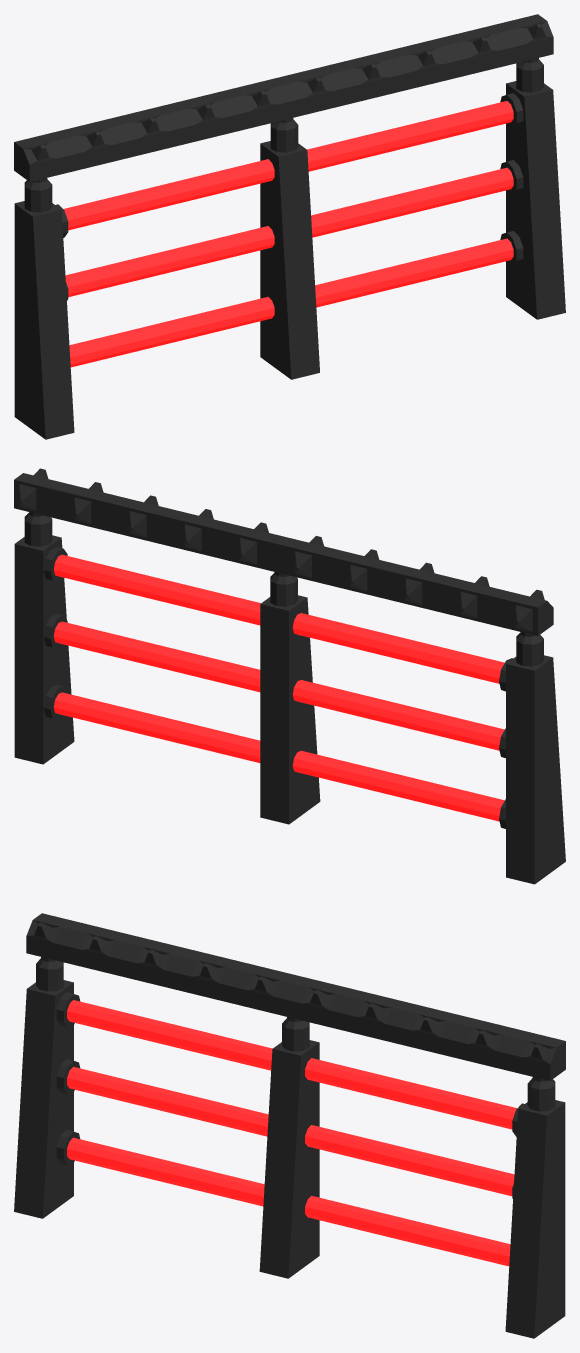
The model's file is LazerFence5.fbx.
3 views of the same model, one above another, from view 1: azimuth 30°, elevation 25°; view 2: azimuth 150°, elevation 25°; view 3: azimuth 330°, elevation 25° (orthographic).
Parts seen in each view (by area): view 1: Cube.002, Cube.004, Cube.001, Cube.003, Cylinder, Cylinder.006, Cylinder.001, Cylinder.011, Cylinder.010, Cylinder.009; view 2: Cube.002, Cube.004, Cube.001, Cube.003, Cylinder.001, Cylinder, Cylinder.006, Cylinder.009, Cylinder.011, Cylinder.010; view 3: Cube.002, Cube.003, Cube.001, Cube.004, Cylinder, Cylinder.006, Cylinder.001, Cylinder.009, Cylinder.010, Cylinder.011.
Part boxes in pixels (x1,y1,x2,y2): Cube.002: (14, 14, 553, 181); Cube.004: (14, 201, 74, 439); Cube.001: (260, 141, 319, 379); Cube.003: (506, 81, 565, 319); Cylinder: (63, 101, 513, 230); Cylinder.006: (65, 167, 513, 297); Cylinder.001: (69, 238, 513, 367); Cylinder.011: (24, 178, 52, 212); Cylinder.010: (270, 118, 298, 152); Cylinder.009: (516, 58, 543, 92); Cube.002: (14, 468, 553, 635); Cube.004: (506, 655, 565, 884); Cube.001: (260, 595, 320, 824); Cube.003: (14, 535, 74, 764); Cylinder.001: (53, 692, 504, 821); Cylinder: (53, 554, 504, 683); Cylinder.006: (53, 621, 504, 750); Cylinder.009: (24, 512, 52, 546); Cylinder.011: (516, 632, 543, 666); Cylinder.010: (270, 572, 297, 606); Cube.002: (26, 913, 565, 1080); Cube.003: (505, 1100, 565, 1338); Cube.001: (259, 1040, 319, 1278); Cube.004: (14, 980, 73, 1218); Cylinder: (67, 1000, 516, 1129); Cylinder.006: (67, 1067, 514, 1196); Cylinder.001: (67, 1137, 510, 1266); Cylinder.009: (527, 1077, 555, 1111); Cylinder.010: (282, 1017, 309, 1051); Cylinder.011: (36, 957, 63, 991).
Size of the model in its own units: 2.01 by 1.03 by 0.2383.
